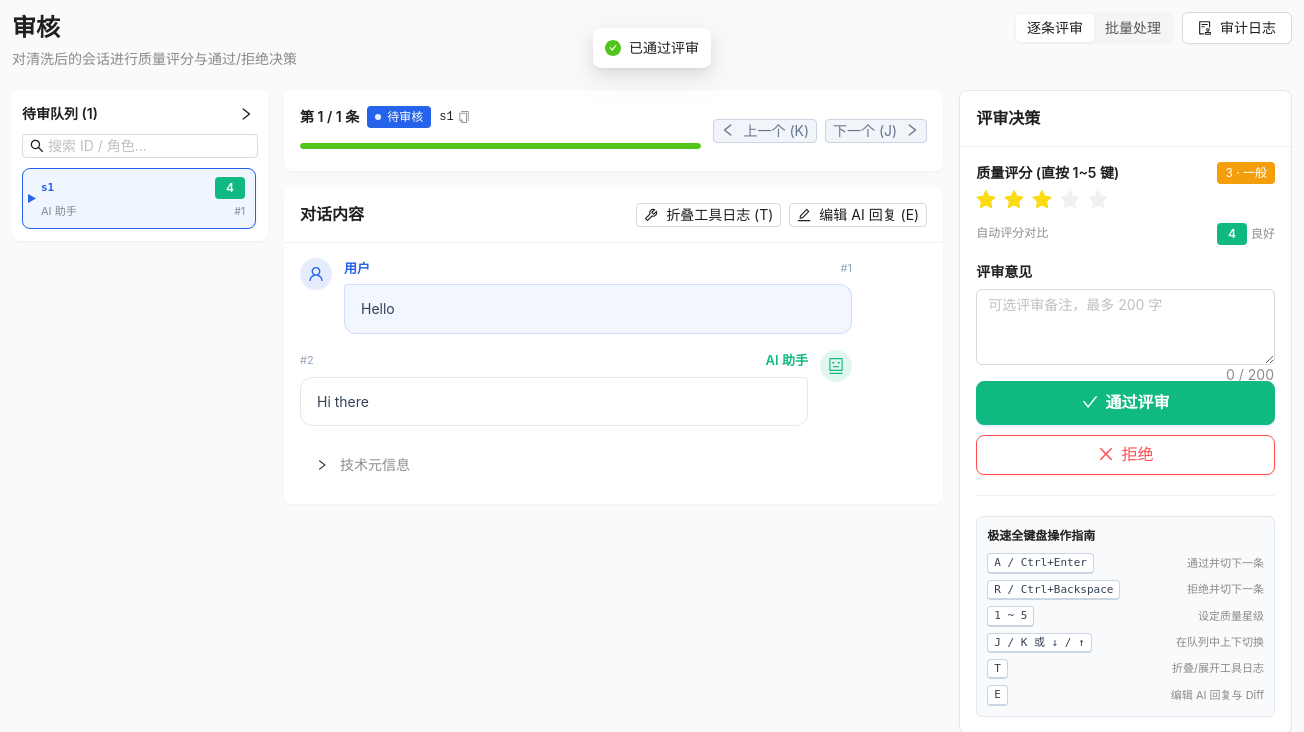
Test: Review Component › should reload when queue becomes empty
expect the text "第 1 / 1 条" is shown: met, box [300,108,359,125]
Click the button "通过评审". click: (1126, 402)
box: [976,380,1275,424]
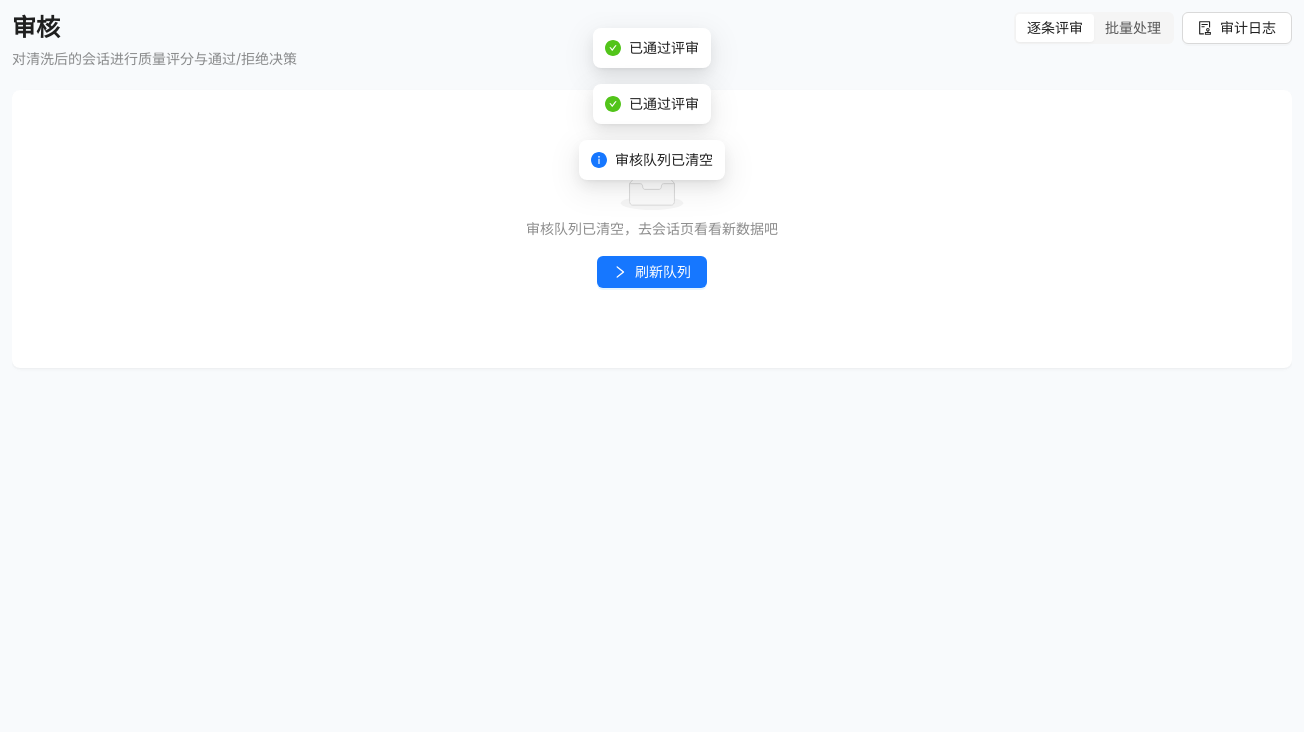
expect the text "审核队列已清空，去会话页看看新数据吧" is shown: met, box [526,220,778,237]
